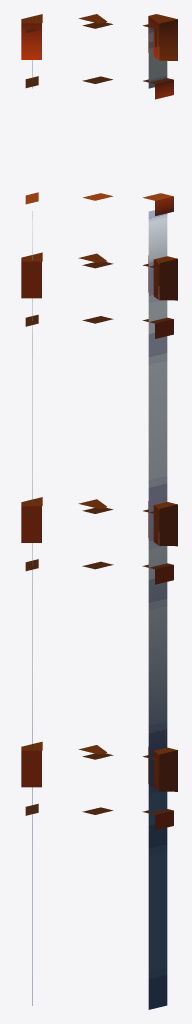
The picture shows the model from 3 angles, left to right: view 1: azimuth 30°, elevation 25°; view 2: azimuth 150°, elevation 25°; view 3: azimuth 330°, elevation 25°; orthographic projection.
Bounding box in the file's own units: 1.13 × 40.25 × 0.6875.
2 materials, 2 textured.
